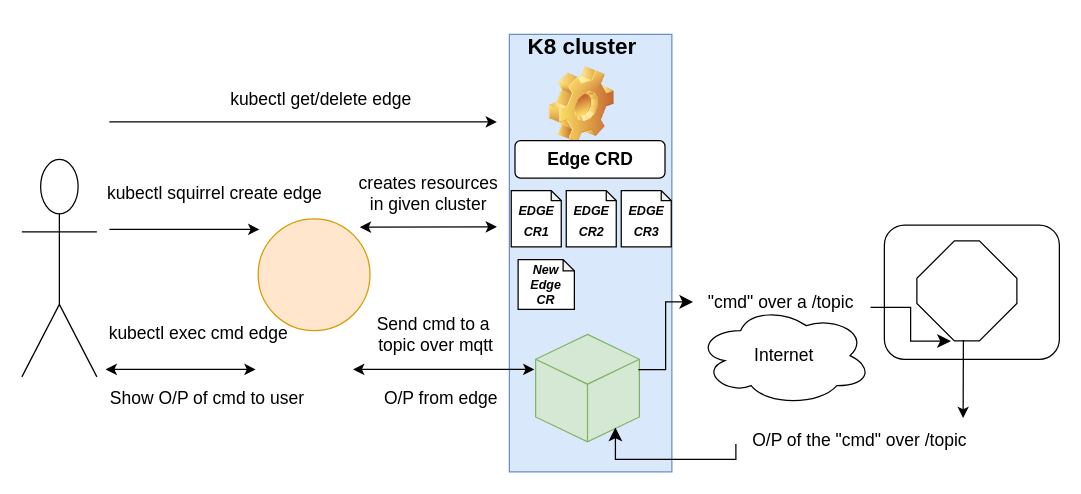
Image size: 1081x494. Some labels were removed from this diagram. The shapes that lost their labels are listed below. From the top down, each one's centre as x and y in pixels, then its label:
the point at 313,274: Squirrel kubectl plugin
the point at 966,290: Edge Mqtt client
the point at 586,387: MQTT Broker
